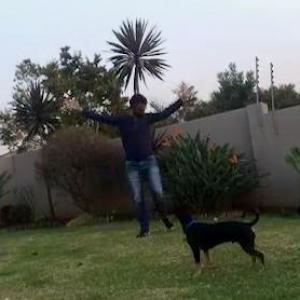takeoff: (52, 76, 190, 234)
